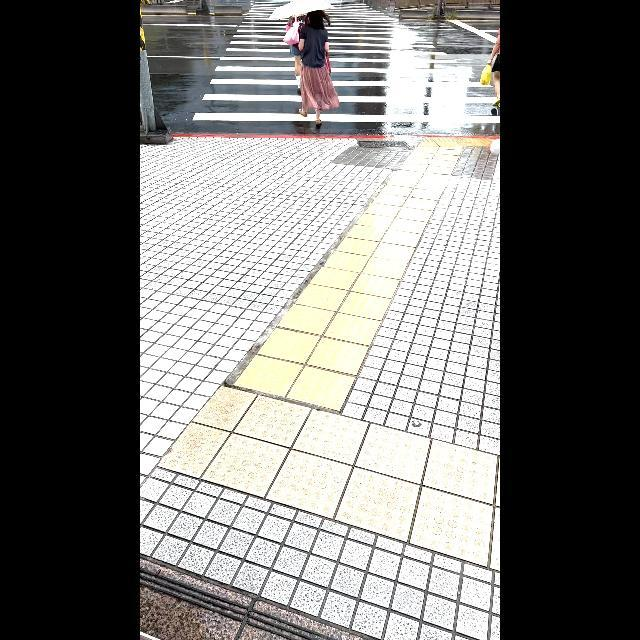sidewalk: (170, 0, 500, 141)
